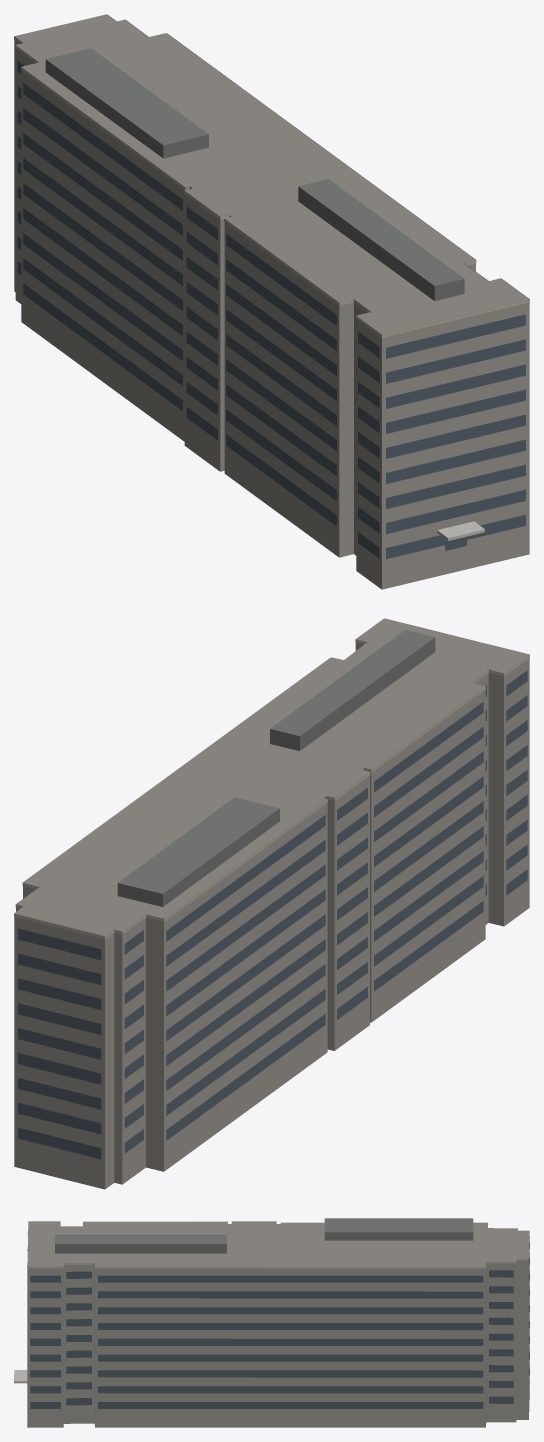
Rendered from doctors-building.glb.
The picture shows the model from 3 angles, top to bottom: view 1: azimuth 30°, elevation 25°; view 2: azimuth 150°, elevation 25°; view 3: azimuth 270°, elevation 25°; orthographic projection. The views are drawn at different scales.
Parts seen in each view (by area): view 1: doctors_building; view 2: doctors_building; view 3: doctors_building.
Boxes of the visible parts, x1,y1,x2,y2 form: doctors_building: [14, 14, 529, 589]; doctors_building: [14, 618, 529, 1189]; doctors_building: [14, 1218, 529, 1427].
Size of the model in its own units: 23.59 by 40.98 by 112.
